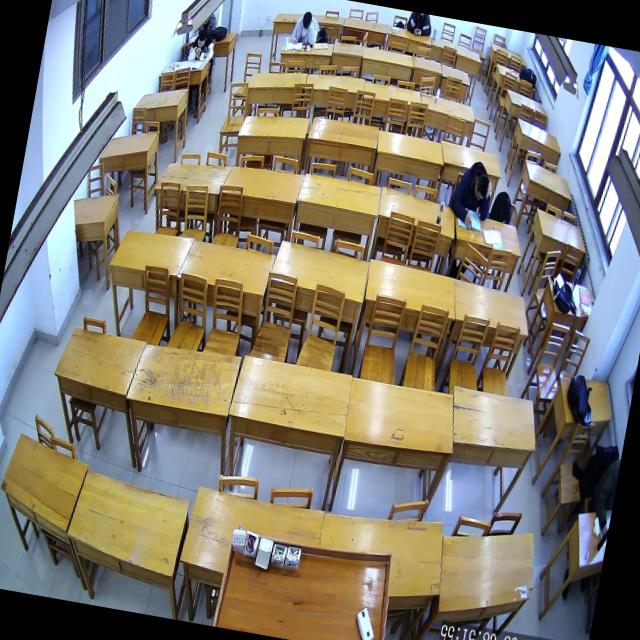down: (472, 174, 490, 202), (300, 10, 313, 31), (196, 28, 207, 48)
sit: (446, 157, 497, 230), (289, 8, 322, 47), (188, 28, 218, 64)
